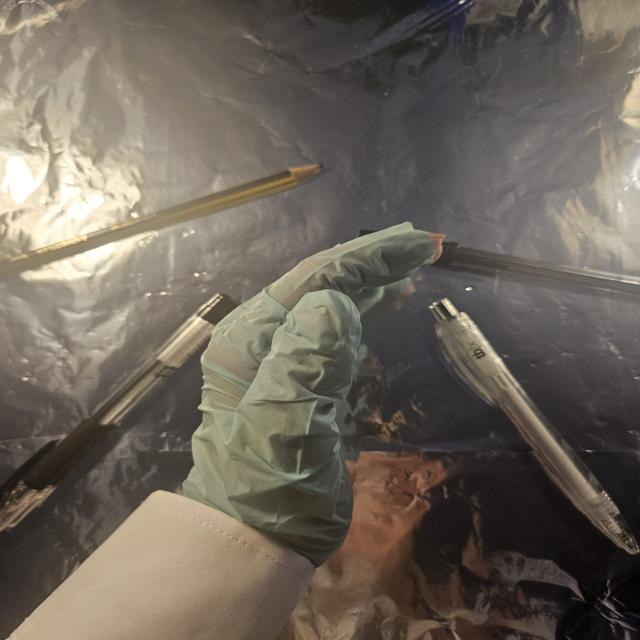gloves_damaged: (178, 218, 451, 570)
